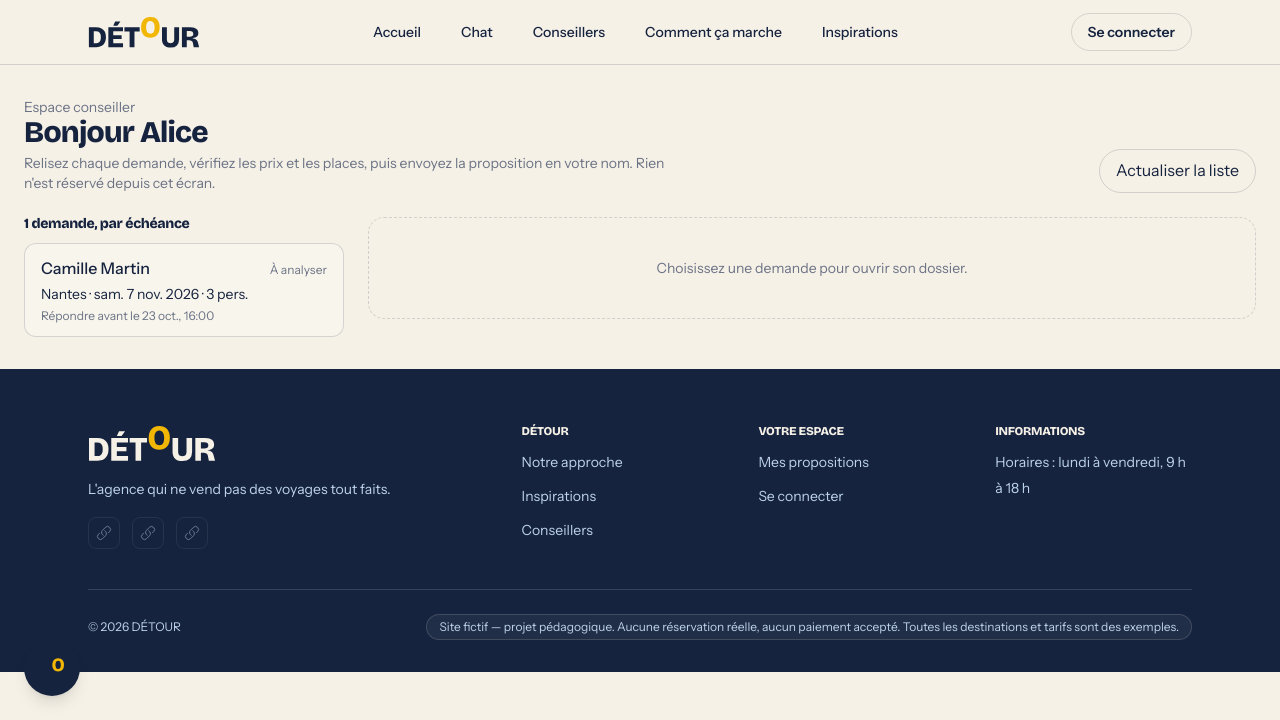
Test: EspaceConseiller › makes the advisor's responsibility visible and never says the agent confirmed
Click the button "Camille Martin": (184, 290) [24, 243, 344, 337]
(page scrolled)
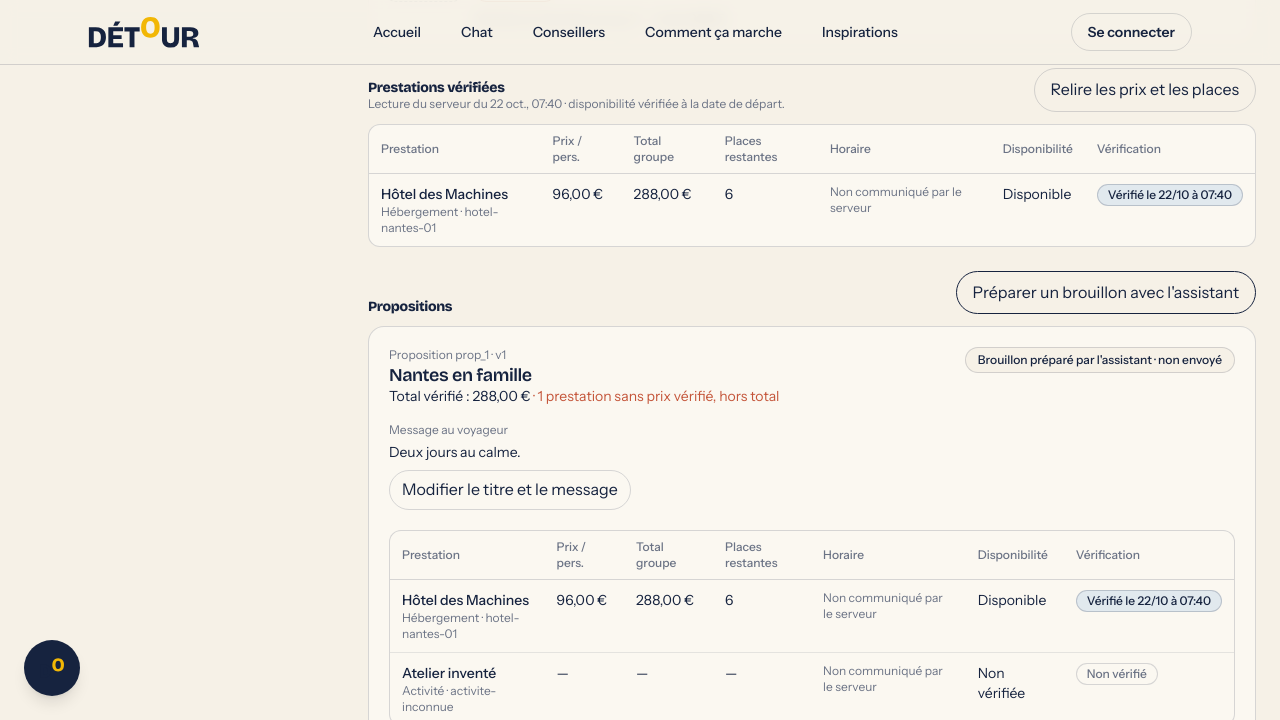
Expected: the text "Brouillon préparé par l'assistant · non envoyé" is shown, [965, 347, 1235, 373]
